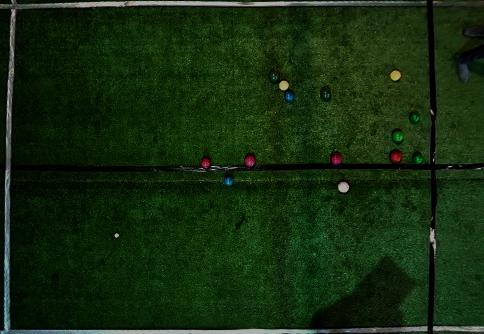blue: (284, 91, 295, 103), (223, 175, 234, 187)
green: (392, 129, 404, 144), (412, 152, 424, 165), (409, 112, 420, 124), (269, 71, 280, 83), (321, 88, 331, 100)
red: (389, 150, 402, 164), (244, 155, 256, 168), (337, 181, 350, 193), (330, 154, 342, 166), (200, 157, 211, 168)
vline: (426, 0, 483, 333), (0, 0, 20, 333)
white: (114, 233, 119, 238)
yellow: (390, 70, 401, 82), (279, 80, 289, 91)
